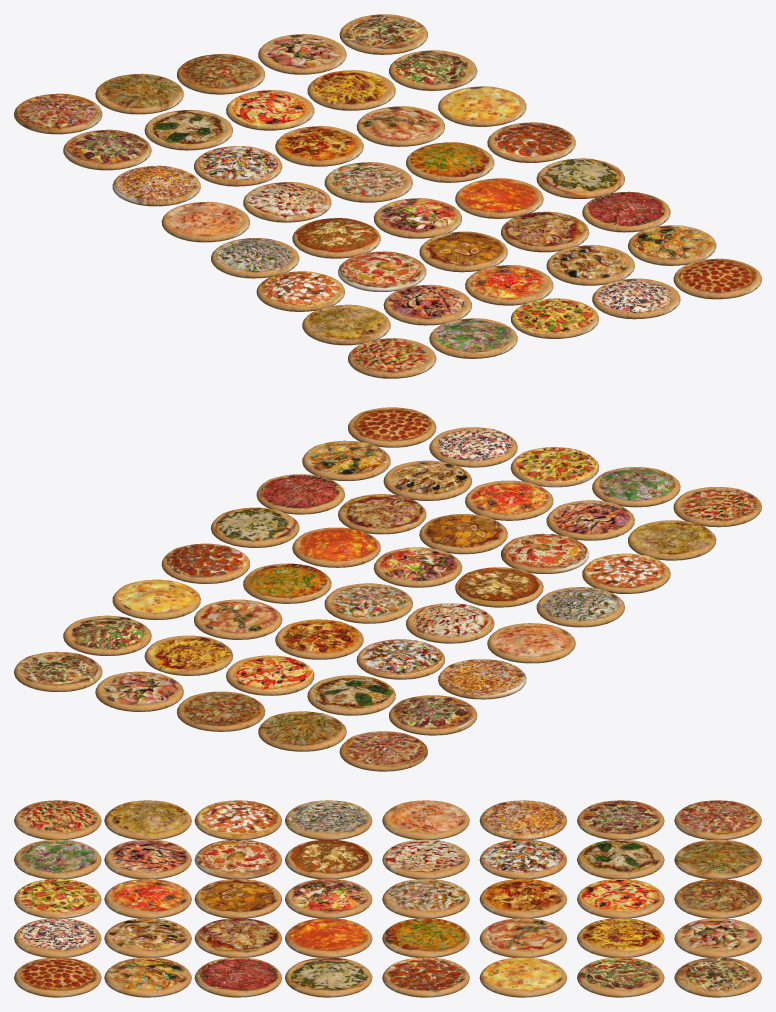
The model's file is Pocolov Pizzas.fbx.
The picture shows the model from 3 angles, top to bottom: view 1: azimuth 30°, elevation 25°; view 2: azimuth 150°, elevation 25°; view 3: azimuth 270°, elevation 25°; orthographic projection.
Visible parts, largest first — view 1: Pizza_09, Pizza_39, Pizza_01, Pizza_13, Pizza_03, Pizza_06, Pizza_15, Pizza_18, Pizza_20, Pizza_16, Pizza_40, Pizza_37 (+28 smaller); view 2: Pizza_13, Pizza_19, Pizza_07, Pizza_02, Pizza_23, Pizza_24, Pizza_21, Pizza_01, Pizza_18, Pizza_22, Pizza_04, Pizza_08 (+28 smaller); view 3: Pizza_20, Pizza_35, Pizza_05, Pizza_10, Pizza_25, Pizza_15, Pizza_30, Pizza_40, Pizza_13, Pizza_11, Pizza_28, Pizza_34 (+28 smaller).
Boxes of the visible parts, x1,y1,x2,y2 form: Pizza_09: [307, 70, 395, 110]; Pizza_39: [592, 278, 680, 319]; Pizza_01: [14, 93, 102, 134]; Pizza_13: [275, 126, 363, 166]; Pizza_03: [177, 54, 265, 94]; Pizza_06: [63, 129, 151, 170]; Pizza_15: [438, 86, 526, 126]; Pizza_18: [324, 162, 412, 202]; Pizza_20: [487, 122, 575, 162]; Pizza_16: [161, 201, 249, 242]; Pizza_40: [673, 258, 761, 299]; Pizza_37: [429, 318, 517, 358]; Pizza_13: [275, 619, 363, 659]; Pizza_19: [243, 563, 331, 603]; Pizza_07: [307, 675, 395, 715]; Pizza_02: [258, 711, 346, 751]; Pizza_23: [373, 547, 462, 587]; Pizza_24: [292, 527, 380, 567]; Pizza_21: [536, 587, 624, 627]; Pizza_01: [339, 731, 427, 771]; Pizza_18: [324, 583, 412, 623]; Pizza_22: [455, 567, 543, 607]; Pizza_04: [95, 671, 183, 711]; Pizza_08: [226, 655, 314, 695]; Pizza_20: [382, 957, 469, 997]; Pizza_35: [104, 957, 191, 997]; Pizza_05: [674, 957, 761, 997]; Pizza_10: [577, 957, 664, 997]; Pizza_25: [285, 957, 372, 997]; Pizza_15: [479, 957, 567, 997]; Pizza_30: [194, 957, 282, 997]; Pizza_40: [14, 957, 101, 997]; Pizza_13: [479, 879, 567, 918]; Pizza_11: [479, 800, 567, 839]; Pizza_28: [194, 879, 282, 918]; Pizza_34: [104, 918, 191, 957].
Size of the model in its own units: 100 by 2.76 by 163.
